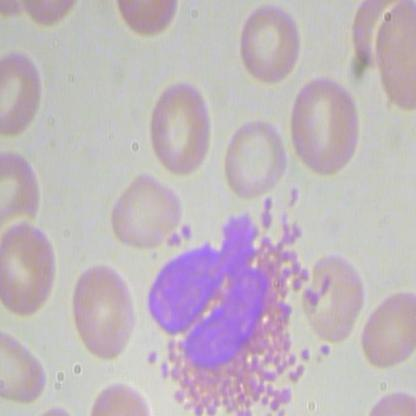RBC: (284, 72, 364, 177), (64, 258, 144, 362), (146, 72, 212, 179), (148, 74, 213, 181), (297, 245, 366, 342), (108, 169, 186, 252), (1, 216, 61, 322), (223, 118, 288, 201), (238, 1, 303, 83), (359, 291, 415, 372)
WBC: (140, 181, 336, 415)
